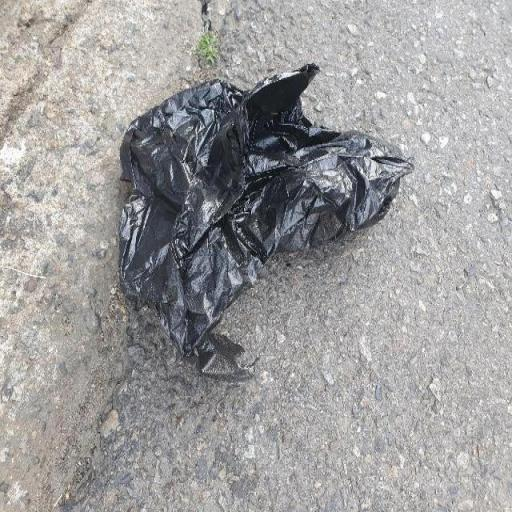plastic-bag: (116, 56, 414, 382)
